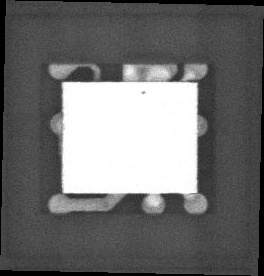DIE_INK: (134, 94, 140, 98)
